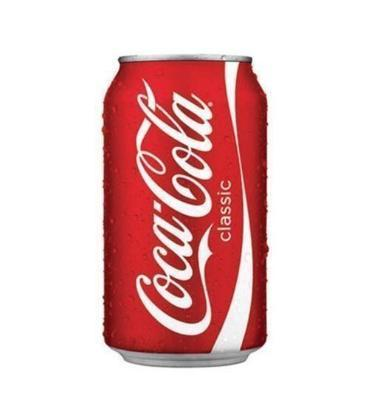Can: (102, 51, 270, 369)
